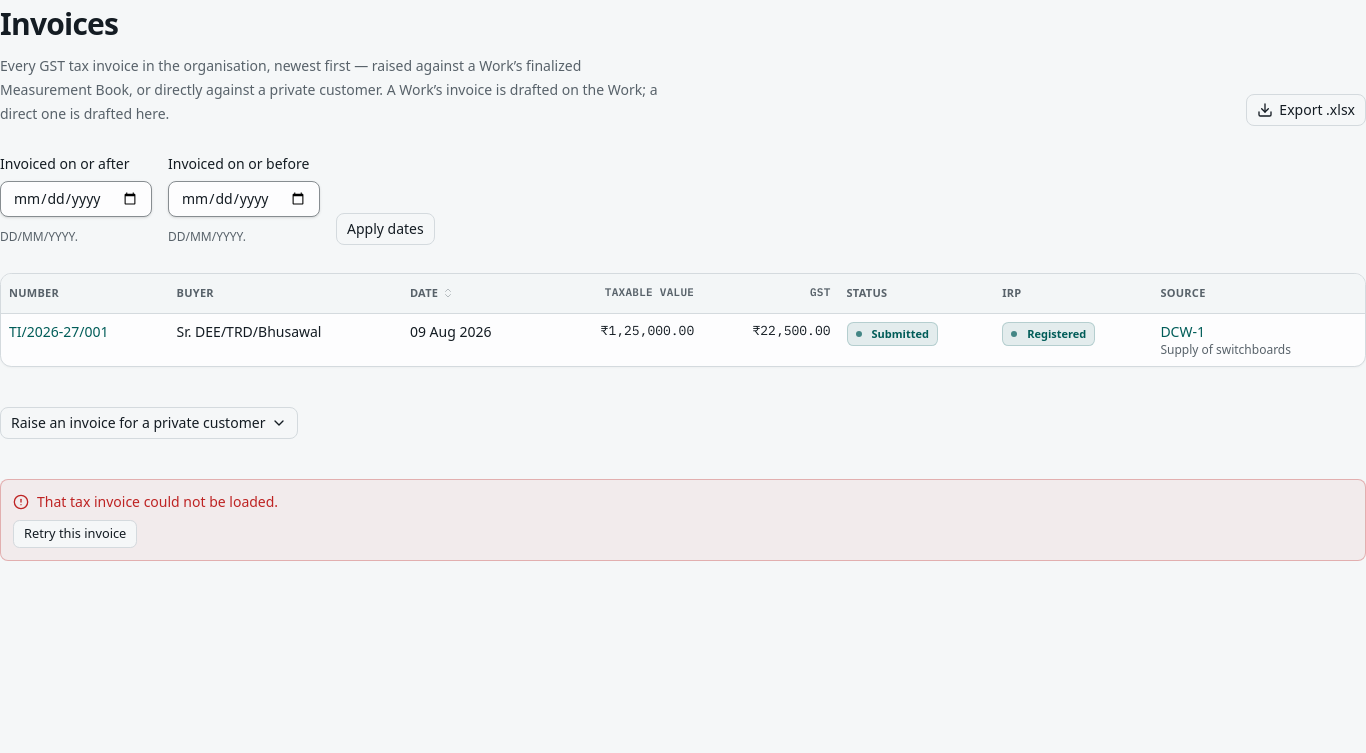
Test: the register opening one invoice › reports a failed detail load and retries only that load
Click the button "Retry this invoice". click: x=75, y=534
box: [13,520,137,548]
(page scrolled)
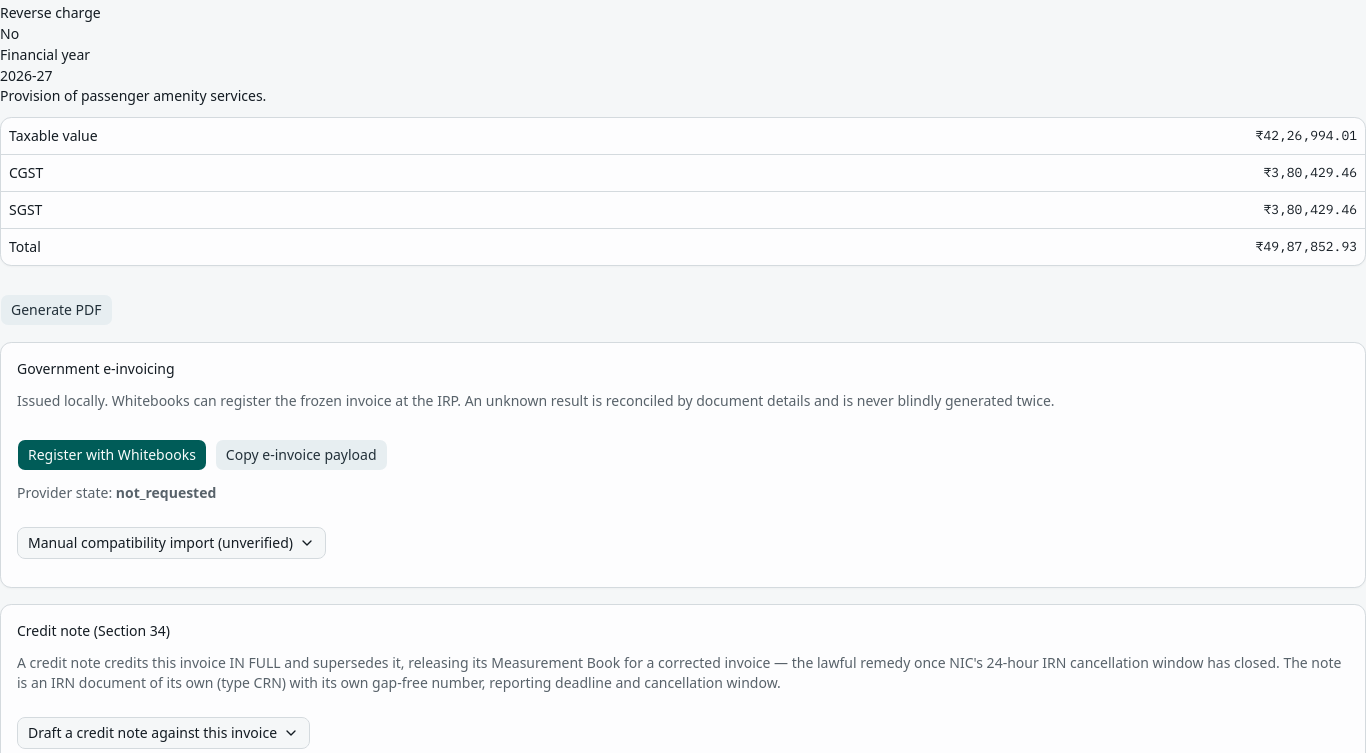
Now the heading "Government e-invoicing" is shown, box [17,359,175,378]
